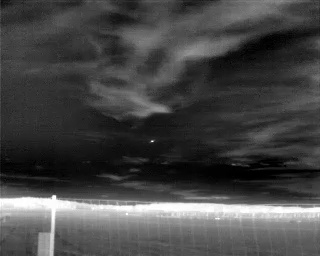AIRPLANE: (149, 138, 155, 144)
